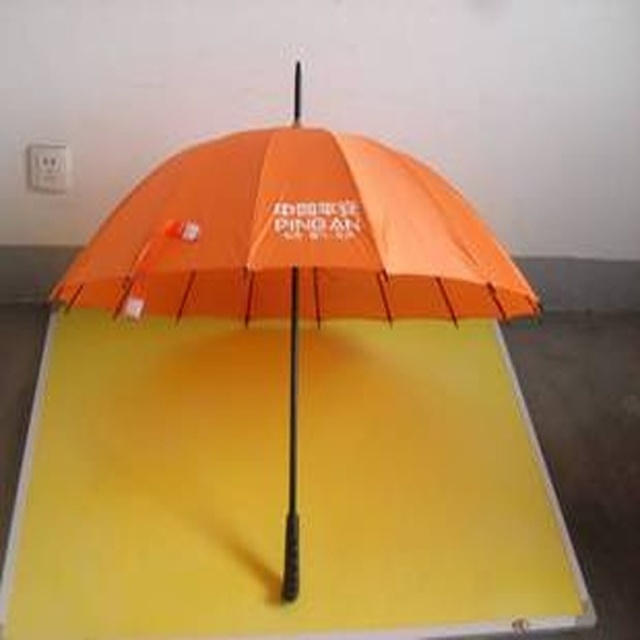umbrella: (48, 60, 542, 609)
